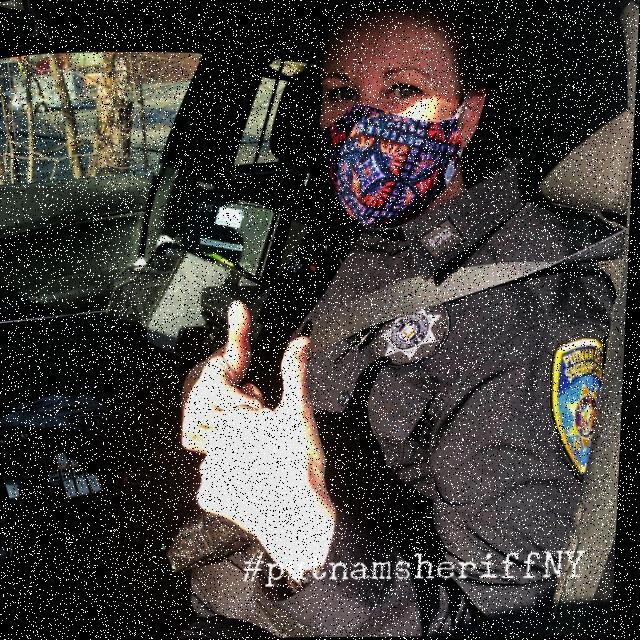seatbelt: (260, 180, 634, 484)
